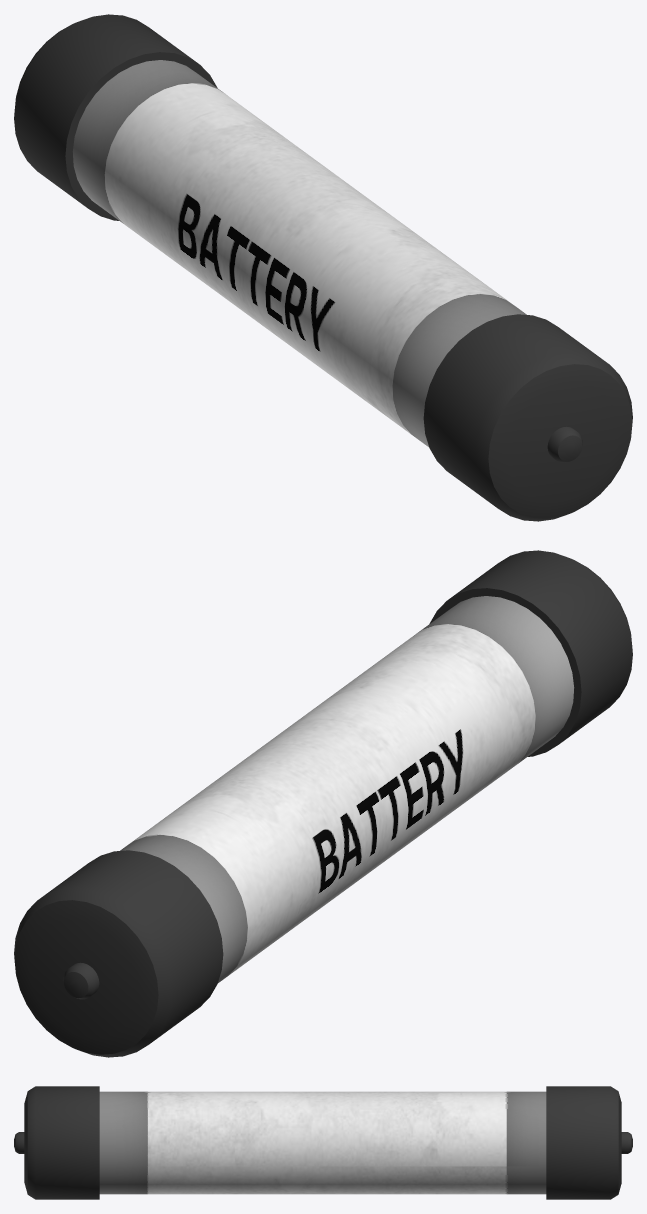
Rendered from 배터리.fbx.
The picture shows the model from 3 angles, top to bottom: view 1: azimuth 30°, elevation 25°; view 2: azimuth 150°, elevation 25°; view 3: azimuth 270°, elevation 25°; orthographic projection. The views are drawn at different scales.
Visible parts, largest first — view 1: Cylinder, Cylinder.001, Cylinder.002; view 2: Cylinder, Cylinder.002, Cylinder.001; view 3: Cylinder, Cylinder.002, Cylinder.001.
Boxes of the visible parts, bbox=[...] form: Cylinder: bbox=[72, 60, 526, 447]; Cylinder.001: bbox=[423, 314, 632, 521]; Cylinder.002: bbox=[14, 14, 217, 220]; Cylinder: bbox=[120, 596, 574, 983]; Cylinder.002: bbox=[14, 850, 223, 1057]; Cylinder.001: bbox=[429, 550, 632, 756]; Cylinder: bbox=[99, 1091, 546, 1194]; Cylinder.002: bbox=[546, 1086, 632, 1199]; Cylinder.001: bbox=[14, 1086, 99, 1199].
Size of the model in its own units: 66.35 by 66.35 by 361.
